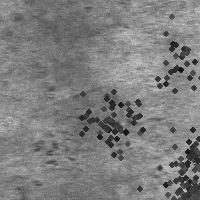rolled-in_scale: (61, 69, 161, 169), (119, 8, 200, 118), (15, 120, 81, 192), (146, 141, 200, 200), (161, 122, 200, 180), (165, 157, 200, 200)
